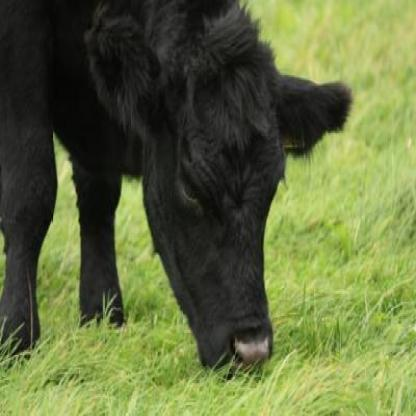mouth: (190, 317, 280, 394)
upper: (234, 344, 274, 369)
